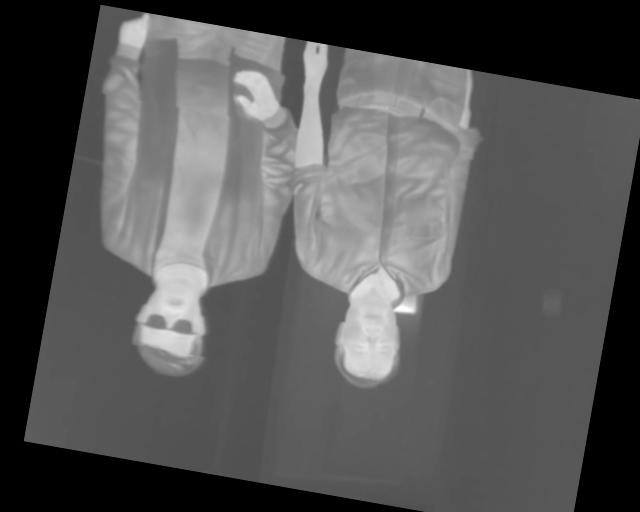face: (125, 272, 217, 383), (324, 286, 411, 395)
